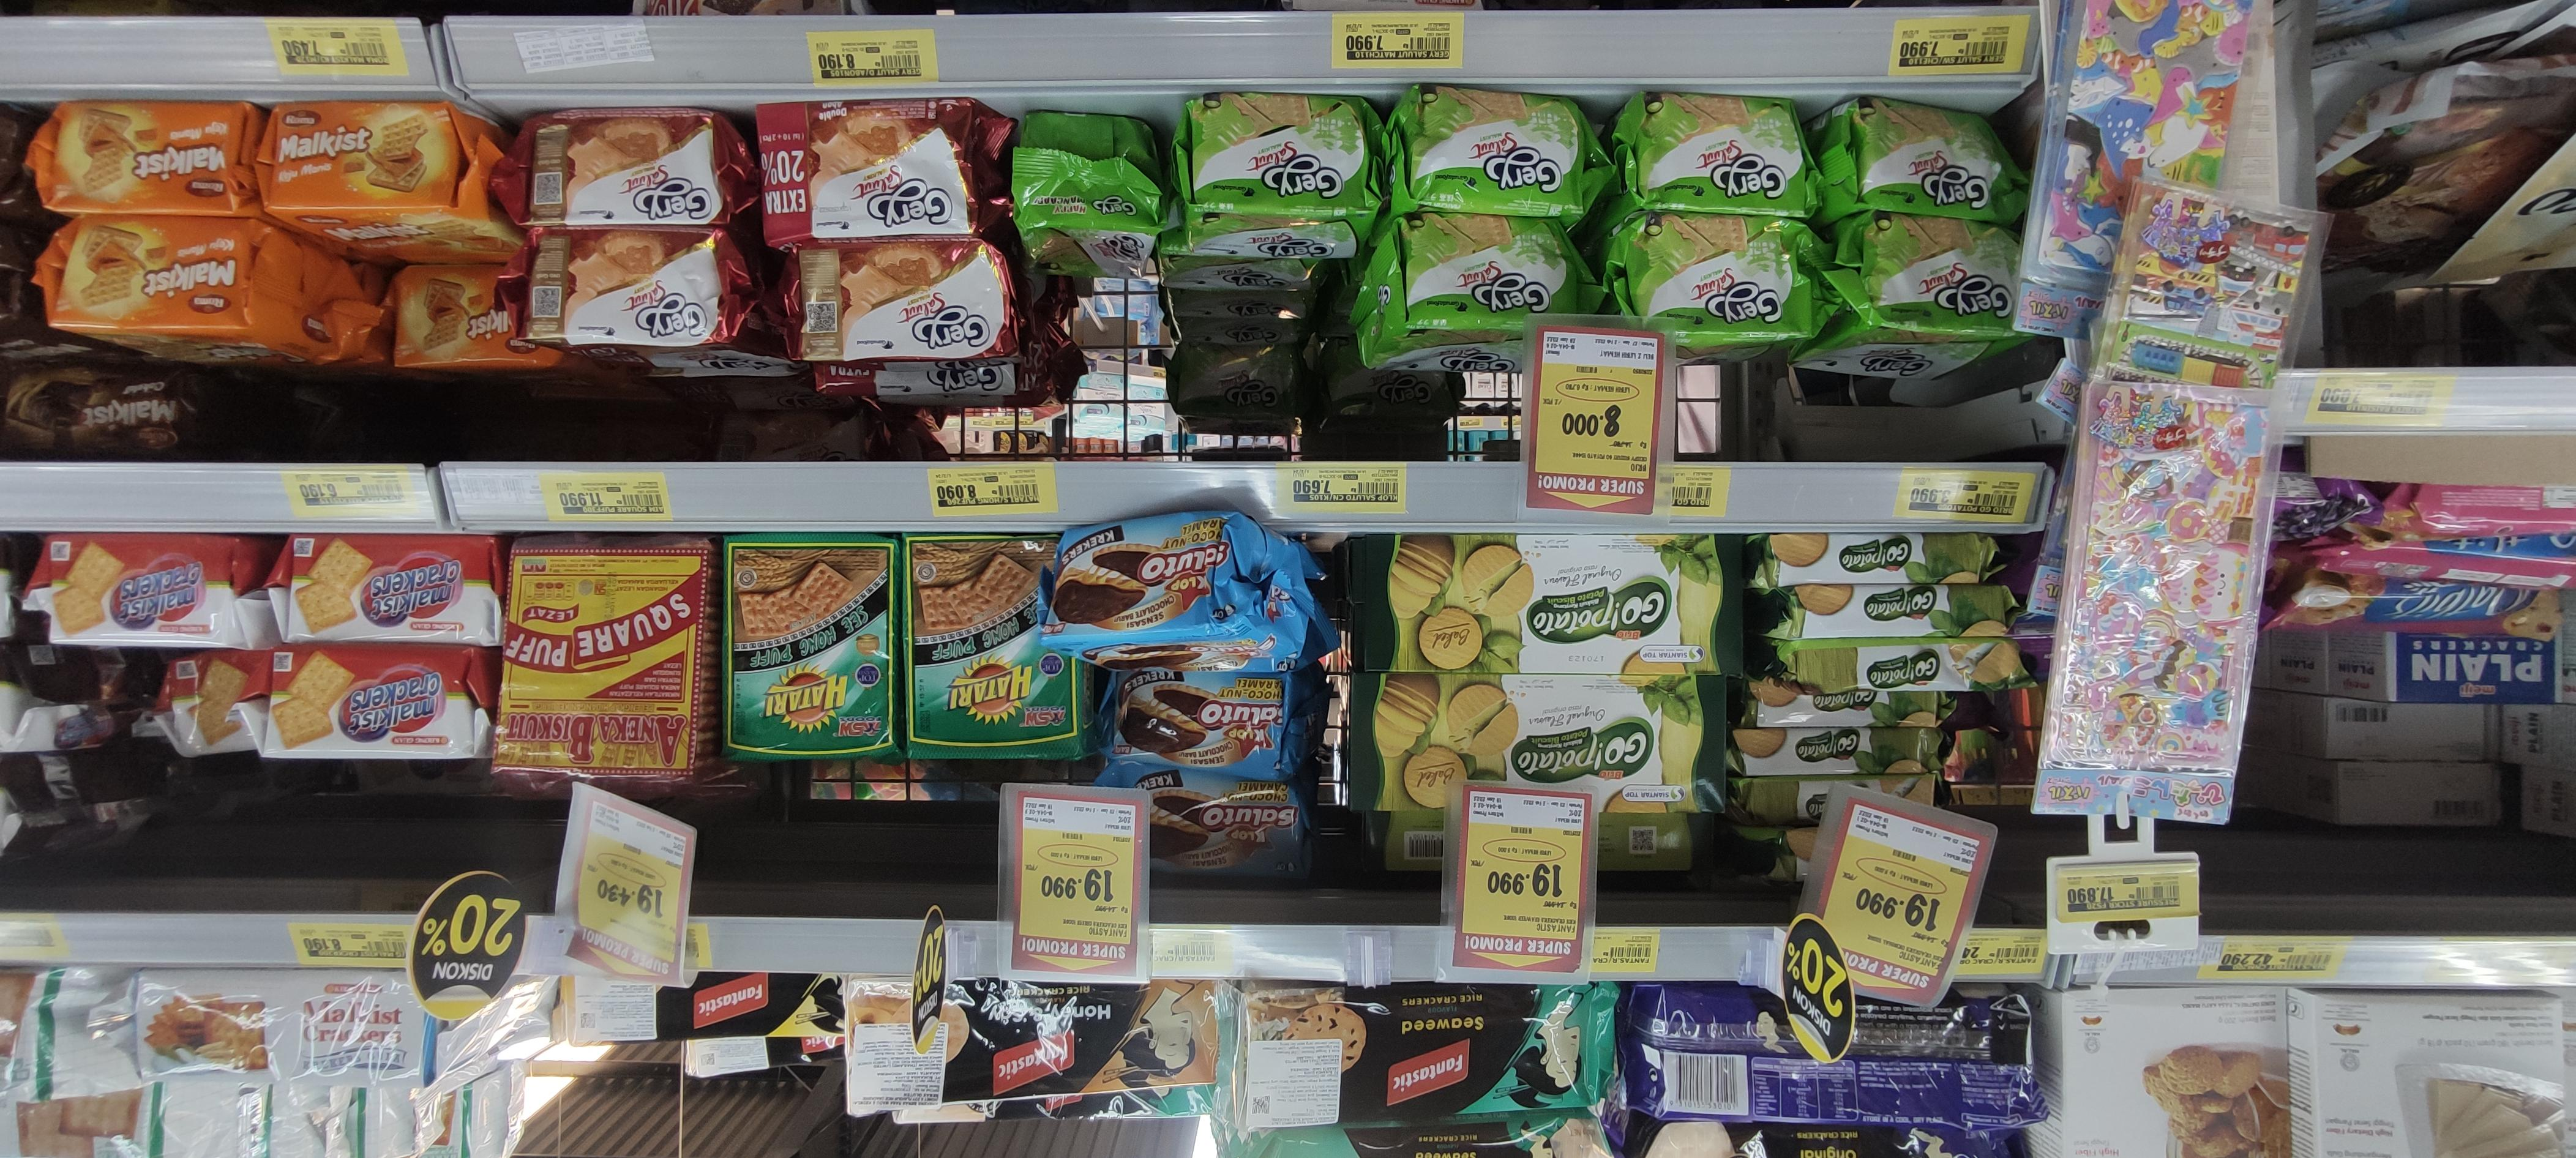90101225212100: (1180, 87, 1387, 261), (1621, 217, 1815, 340), (1406, 210, 1598, 333), (1625, 99, 1819, 220), (1848, 220, 2042, 342), (1838, 87, 2032, 209), (1428, 84, 1620, 205)
90101225226101: (751, 103, 996, 243), (527, 225, 772, 365), (775, 240, 1020, 379), (514, 99, 759, 237)
AnekaBiskuitSquarePuff: (488, 544, 711, 772)
FantasticHoney&Soy: (843, 986, 1219, 1115)
FantasticSeaweed: (1230, 992, 1621, 1124)
HatariSeeHongPuff: (718, 534, 910, 775), (910, 534, 1102, 774)
KlopSlutoChocoNutCaramel: (1045, 514, 1311, 664), (1097, 673, 1303, 783)
KongGuanMalkistCrackers: (266, 542, 509, 654), (25, 540, 266, 652), (250, 649, 493, 759)
RomaMalkistKeju: (26, 225, 297, 358), (269, 107, 514, 253), (26, 89, 266, 220)
SiantaTopGoPotatoOriginal: (1390, 537, 1728, 673), (1362, 675, 1699, 811)
